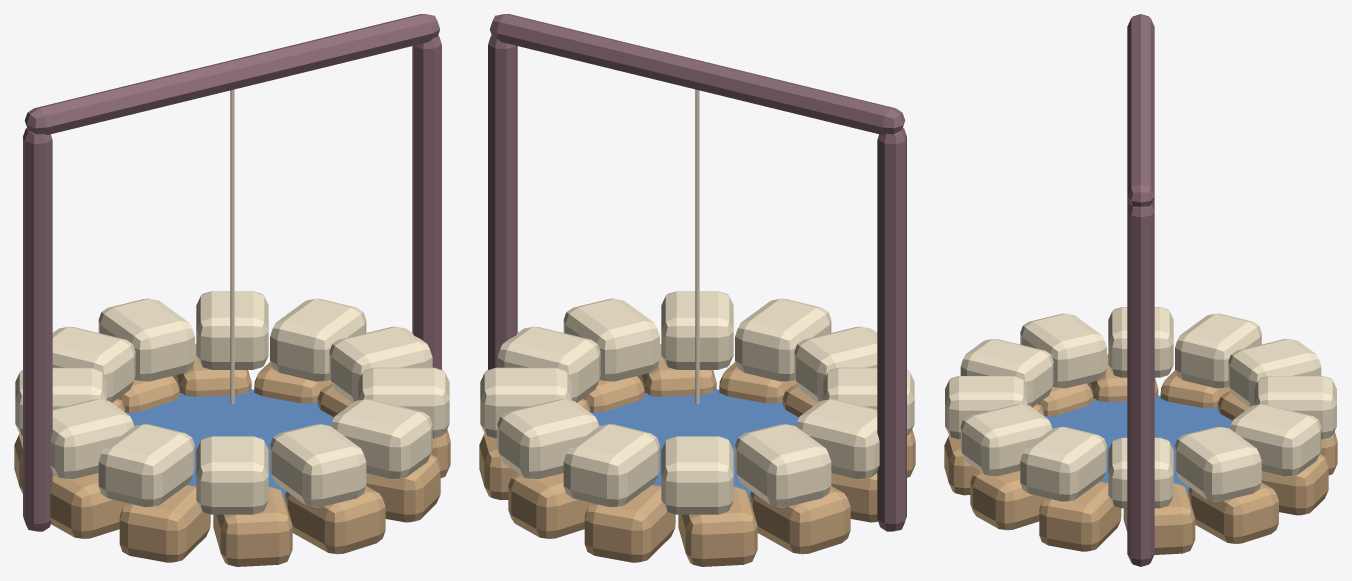
Rendered from well.glb.
3 renders of one model, left to right at view 1: azimuth 30°, elevation 25°; view 2: azimuth 150°, elevation 25°; view 3: azimuth 270°, elevation 25°, orthographic. The views are drawn at different scales.
Parts seen in each view (by area): view 1: Well crossbar, Well post, Well post.001, Water, Well stone.014, Well stone.018, Well stone.020, Well stone.016, Well stone.002, Well stone.006, Well stone.004, Well stone.015 (+15 smaller); view 2: Well crossbar, Well post, Well post.001, Water, Well stone.006, Well stone.010, Well stone.004, Well stone.008, Well stone.018, Well stone.022, Well stone.020, Well stone.007 (+15 smaller); view 3: Well post.001, Well crossbar, Well stone.002, Well stone.022, Water, Well stone.004, Well stone.020, Well stone.010, Well stone.014, Well stone.023, Well stone.003, Well stone.008 (+14 smaller).
Boxes of the visible parts, x1,y1,x2,y2 form: Well crossbar: (24, 14, 440, 134); Well post: (23, 128, 52, 531); Well post.001: (412, 35, 441, 369); Water: (125, 389, 333, 506); Well stone.014: (98, 424, 194, 507); Well stone.018: (270, 424, 366, 507); Well stone.020: (330, 399, 432, 479); Well stone.016: (196, 436, 268, 514); Well stone.002: (270, 298, 366, 381); Well stone.006: (98, 298, 194, 381); Well stone.004: (196, 291, 268, 369); Well stone.015: (119, 484, 210, 562); Well crossbar: (489, 14, 905, 134); Well post: (877, 128, 906, 531); Well post.001: (488, 35, 517, 369); Water: (590, 389, 798, 506); Well stone.006: (563, 424, 659, 507); Well stone.010: (735, 424, 831, 507); Well stone.004: (497, 399, 599, 479); Well stone.008: (661, 436, 733, 514); Well stone.018: (735, 298, 831, 381); Well stone.022: (563, 298, 659, 381); Well stone.020: (661, 291, 733, 369); Well stone.007: (584, 484, 675, 562); Well post.001: (1127, 204, 1154, 566); Well crossbar: (1127, 14, 1154, 206); Well stone.002: (1175, 427, 1261, 501); Well stone.022: (1020, 427, 1106, 501); Water: (1044, 395, 1232, 500); Well stone.004: (1229, 404, 1321, 476); Well stone.020: (960, 404, 1052, 476); Well stone.010: (1175, 313, 1261, 388); Well stone.014: (1020, 313, 1106, 388); Well stone.023: (1039, 481, 1121, 551); Well stone.003: (1188, 483, 1278, 543); Well stone.008: (1228, 339, 1321, 407).
Bounding box in the file's own units: 2.52 × 2.45 × 2.29.
